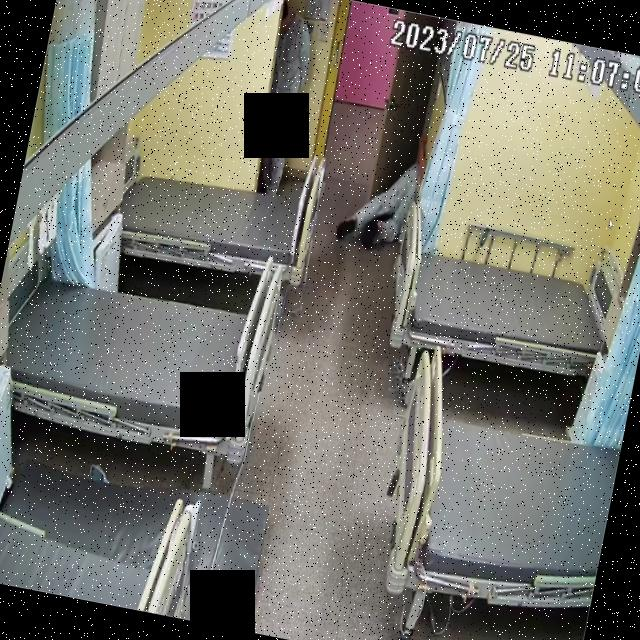bed: (371, 343, 634, 625), (0, 259, 278, 459), (379, 227, 631, 388), (114, 154, 318, 286)
fall: (336, 149, 424, 262)
patient: (250, 0, 322, 196), (337, 148, 425, 260)
